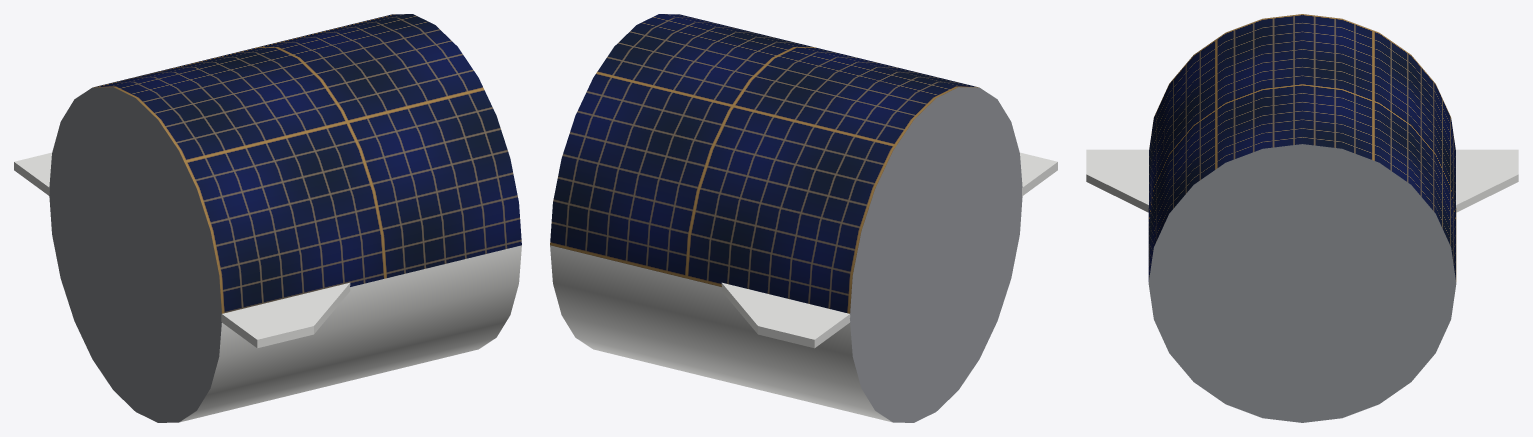
File: kapsel_trunk.glb
3 views of the same model, side by side, from view 1: azimuth 30°, elevation 25°; view 2: azimuth 150°, elevation 25°; view 3: azimuth 270°, elevation 25° (orthographic). The views are drawn at different scales.
Visible parts, largest first — view 1: kapsel_trunk; view 2: kapsel_trunk; view 3: kapsel_trunk.
Boxes of the visible parts, x1,y1,x2,y2 form: kapsel_trunk: (14, 14, 521, 422); kapsel_trunk: (550, 14, 1057, 422); kapsel_trunk: (1086, 14, 1518, 422).
Size of the model in its own units: 3.7 by 3.7 by 5.2.
Materials: 3 (1 with a texture image).
